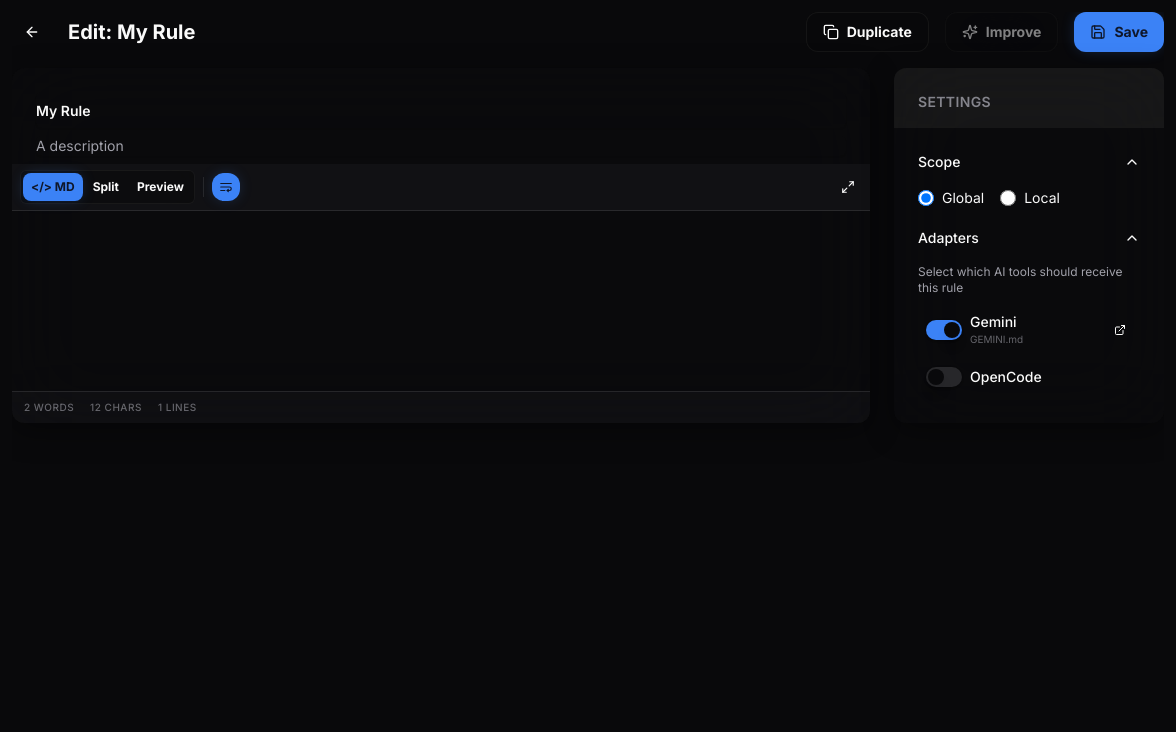
Scenario: RuleEditor › shows target repos panel when scope is switched to local
The width and height of the screenshot is (1176, 732).
Expected: the text "Target Repositories" is not shown
Click the radio button labelled "Local". click: (1008, 198)
box: [1000, 190, 1016, 206]
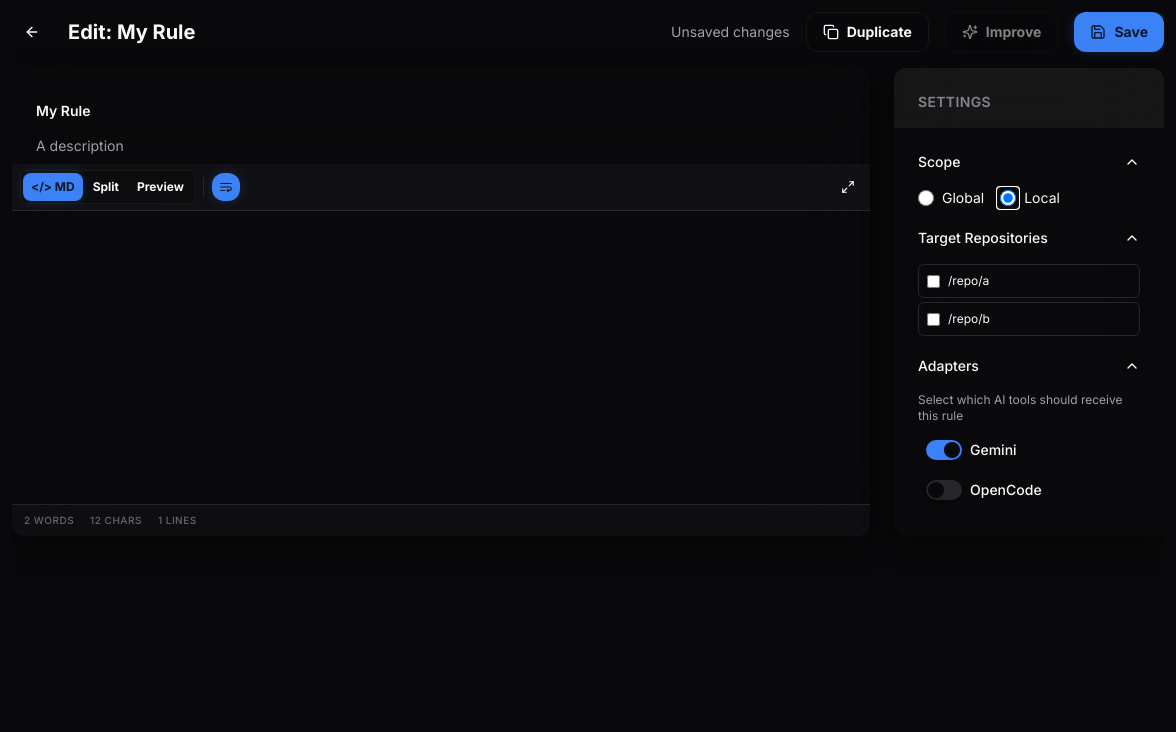
Now the text "Target Repositories" is shown, box [918, 228, 1048, 248]
Now the text "/repo/a" is shown, box [948, 273, 989, 289]
